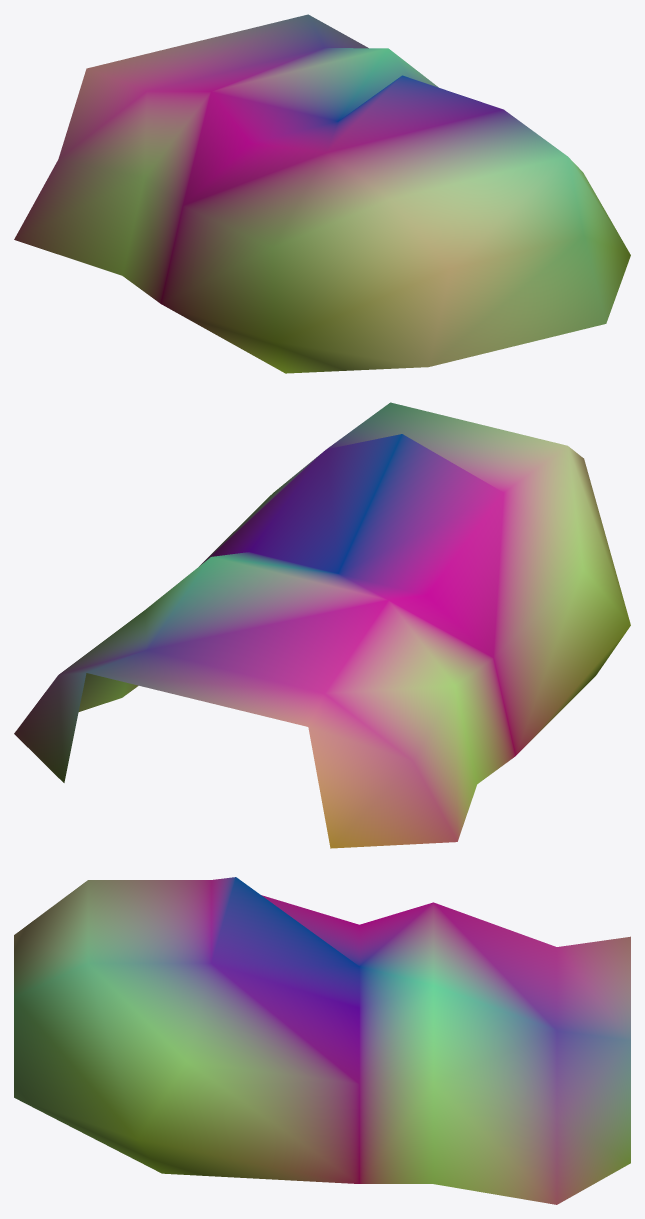
The picture shows the model from 3 angles, top to bottom: view 1: azimuth 30°, elevation 25°; view 2: azimuth 150°, elevation 25°; view 3: azimuth 270°, elevation 25°; orthographic projection. The views are drawn at different scales.
Parts seen in each view (by area): view 1: part; view 2: part; view 3: part.
Boxes of the visible parts, left/top/right/bottom form: part: left=14, top=14, right=630, bottom=373; part: left=14, top=402, right=630, bottom=848; part: left=14, top=877, right=630, bottom=1204.
Bounding box in the file's own units: 20 × 10 × 25.
